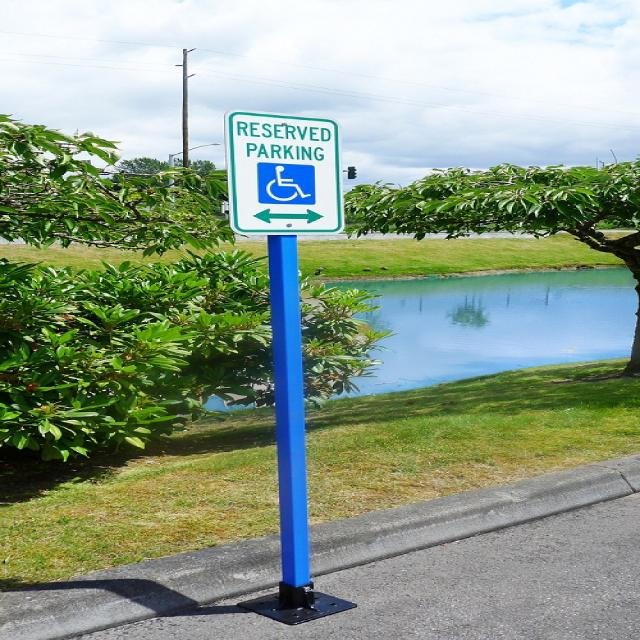car-handicap-placard: (258, 162, 310, 206)
